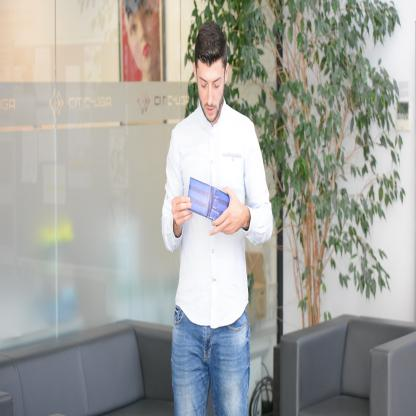monedero: (186, 176, 230, 221)
